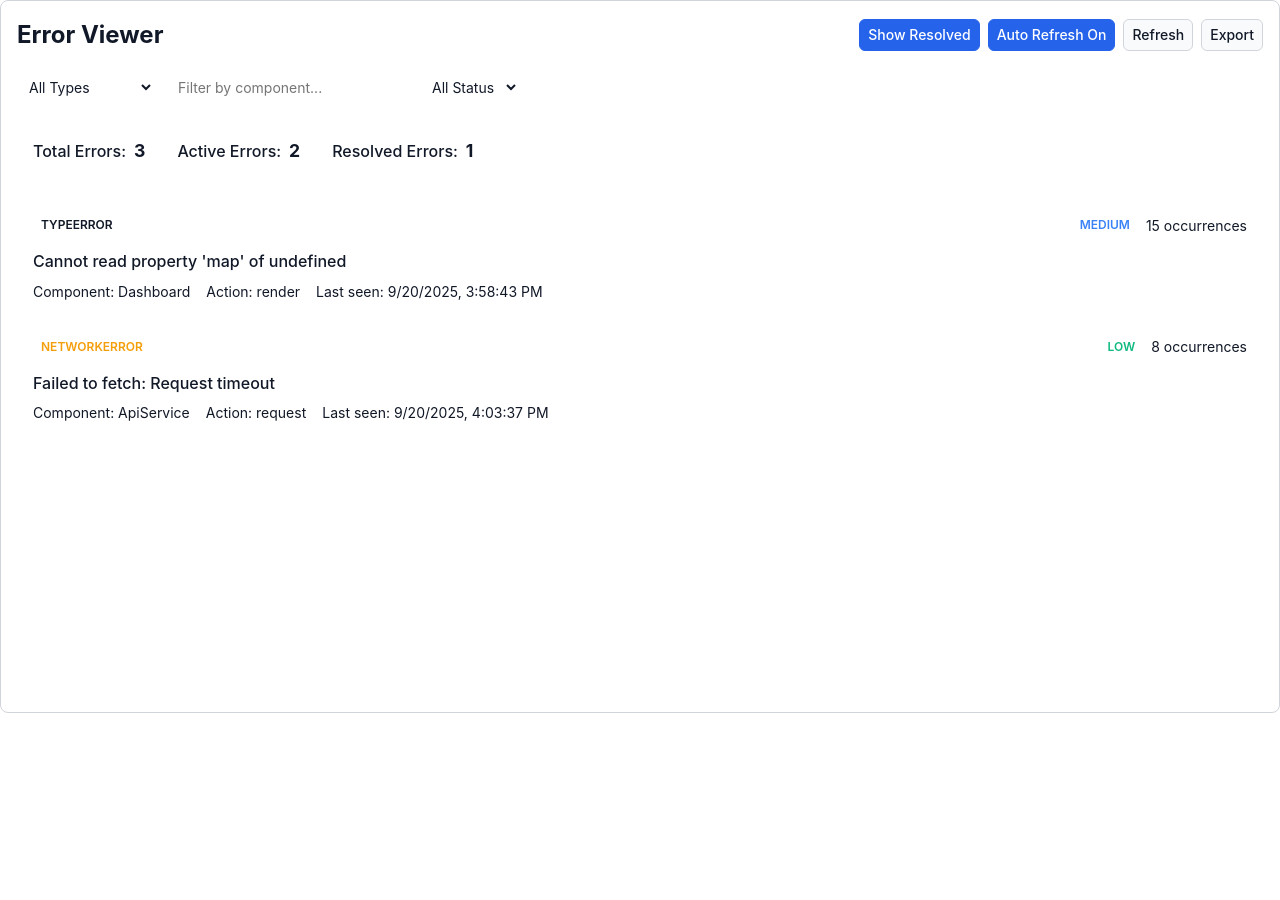
Test: ErrorViewer Component › filters errors by type
Check: the heading "Error Viewer" is shown, box [17,17,163,53]
Check: the text "TypeError" is shown, box [41,217,113,232]
// Filter by TypeError - get the first combobox (type filter)
Select "TypeError" in the 1st dropdown. click: (86,88)
box: [17,69,154,106]
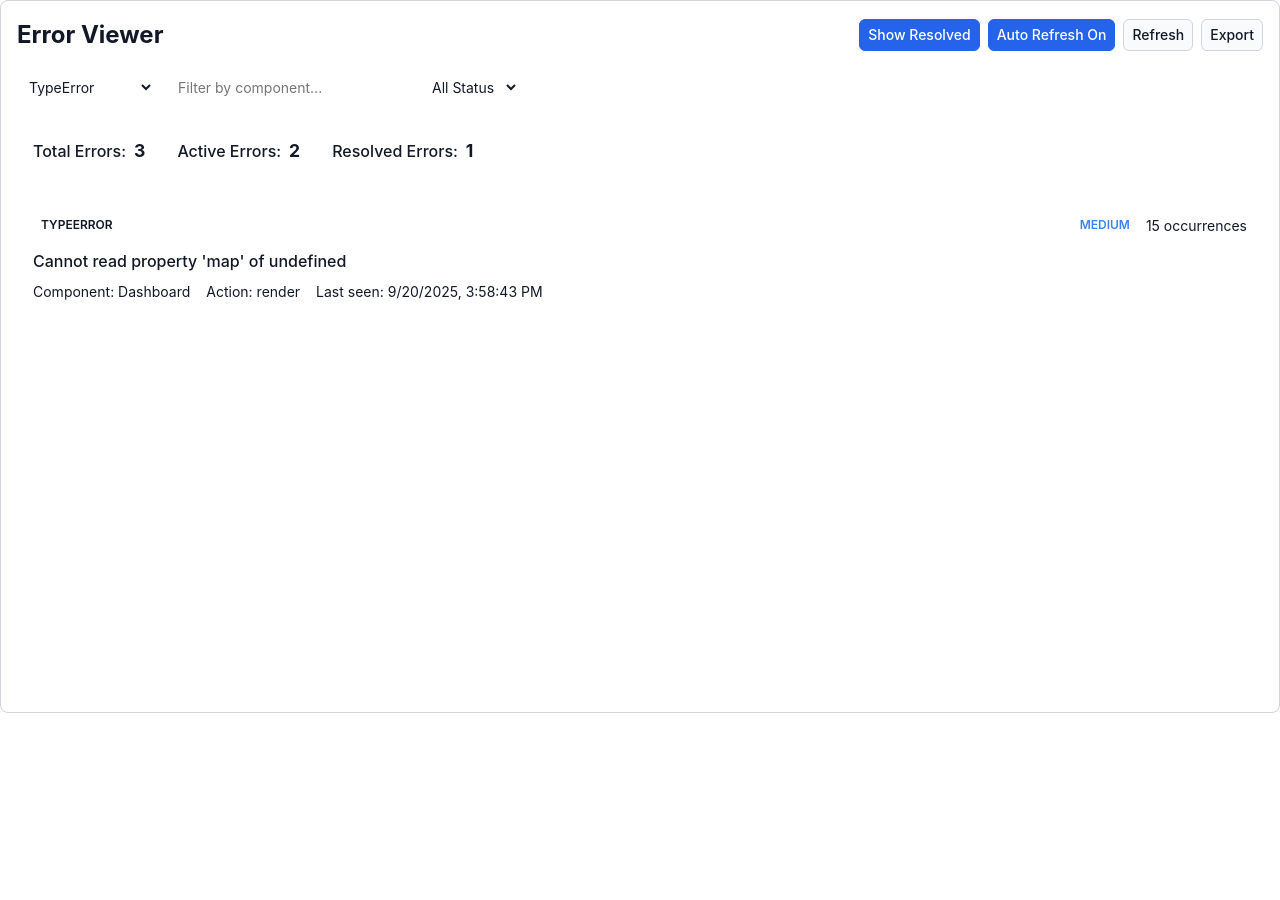
Check: the text "Cannot read property 'map' of undefined" is shown, box [33,251,346,271]
Check: the text "NetworkError" is gone
